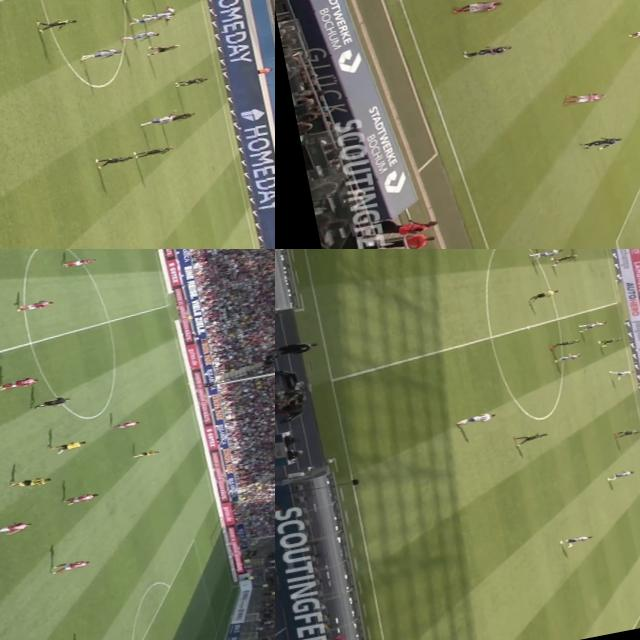player: (6, 471, 56, 492), (36, 13, 81, 36), (463, 41, 514, 60), (133, 140, 180, 160), (78, 44, 124, 64), (454, 410, 500, 428), (0, 517, 37, 539), (51, 434, 89, 454), (142, 110, 184, 128), (0, 372, 42, 390), (456, 0, 503, 16), (560, 90, 606, 106), (160, 106, 198, 125), (512, 428, 552, 446), (63, 489, 104, 506), (15, 297, 57, 313), (97, 152, 136, 168), (50, 557, 91, 572), (124, 27, 163, 42), (173, 75, 210, 90), (587, 134, 626, 148), (148, 41, 183, 56), (558, 532, 594, 546), (549, 250, 580, 266), (577, 318, 612, 332), (548, 336, 584, 349), (607, 365, 638, 380), (158, 3, 181, 23), (130, 12, 162, 26), (135, 444, 167, 458), (528, 249, 564, 261), (606, 468, 636, 482), (142, 8, 176, 20), (64, 255, 98, 267), (553, 351, 583, 364), (596, 336, 626, 348), (616, 426, 640, 438), (116, 418, 144, 428), (627, 26, 640, 39), (125, 0, 157, 4)
